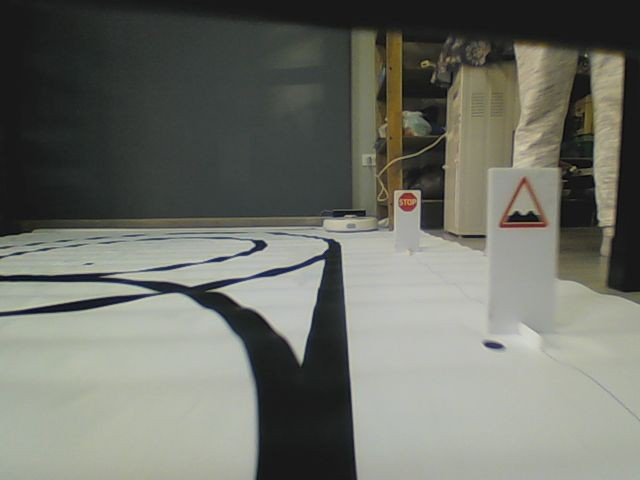Nerov: (498, 175, 548, 229)
Stop: (396, 191, 419, 214)
